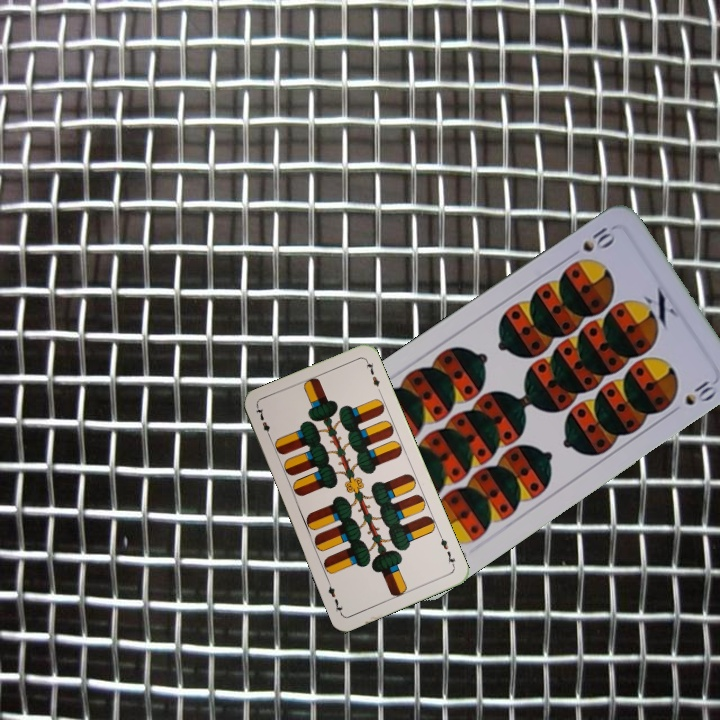E7: (252, 403, 275, 442), (436, 531, 458, 569)
S10: (578, 221, 619, 255)
